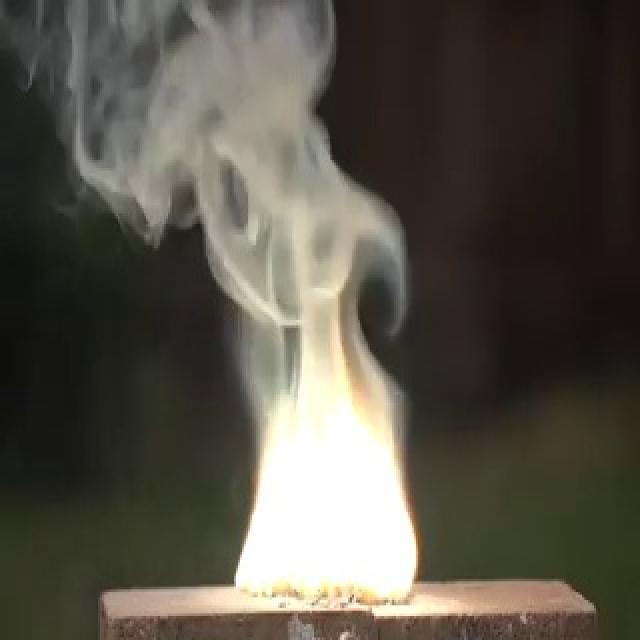Fire: (216, 293, 422, 608)
Smoke: (21, 0, 416, 294)
